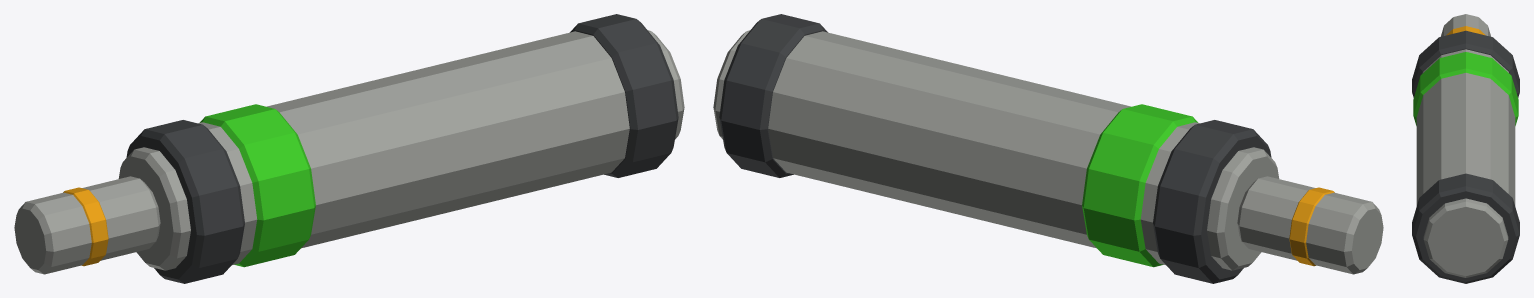
File: 10_medkit_auto_injector.fbx
The picture shows the model from 3 angles, left to right: view 1: azimuth 30°, elevation 25°; view 2: azimuth 150°, elevation 25°; view 3: azimuth 270°, elevation 25°; orthographic projection. The views are drawn at different scales.
Parts seen in each view (by area): view 1: 10_medkit_auto_injector; view 2: 10_medkit_auto_injector; view 3: 10_medkit_auto_injector.
Boxes of the visible parts, bbox=[...] form: 10_medkit_auto_injector: bbox=[14, 14, 684, 283]; 10_medkit_auto_injector: bbox=[713, 14, 1383, 283]; 10_medkit_auto_injector: bbox=[1412, 14, 1519, 283].
Bounding box in the file's own units: 12.5 × 2.77 × 2.77.
